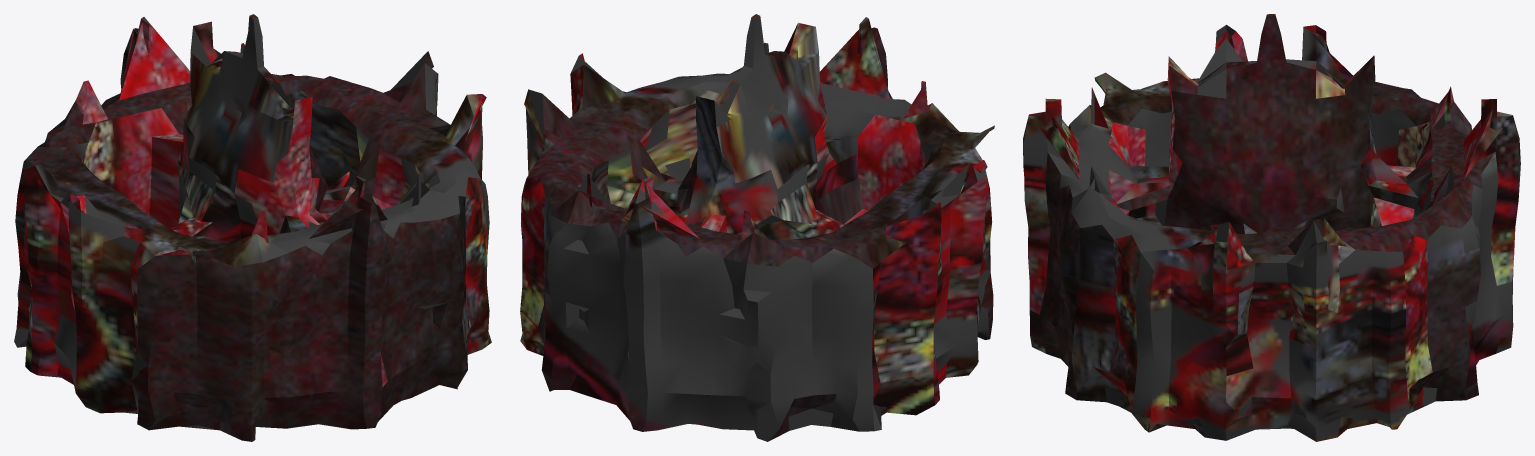
The model's file is religion3.fbx.
3 renders of one model, left to right at view 1: azimuth 30°, elevation 25°; view 2: azimuth 150°, elevation 25°; view 3: azimuth 270°, elevation 25°, orthographic.
Visible parts, largest first — view 1: lp; view 2: lp; view 3: lp.
Part boxes in pixels (x1=…): lp: x1=14, y1=14, x2=491, y2=441; lp: x1=520, y1=14, x2=994, y2=441; lp: x1=1023, y1=14, x2=1520, y2=441.
Size of the model in its own units: 161 by 124 by 165.
Materials: 1 (1 with a texture image).
